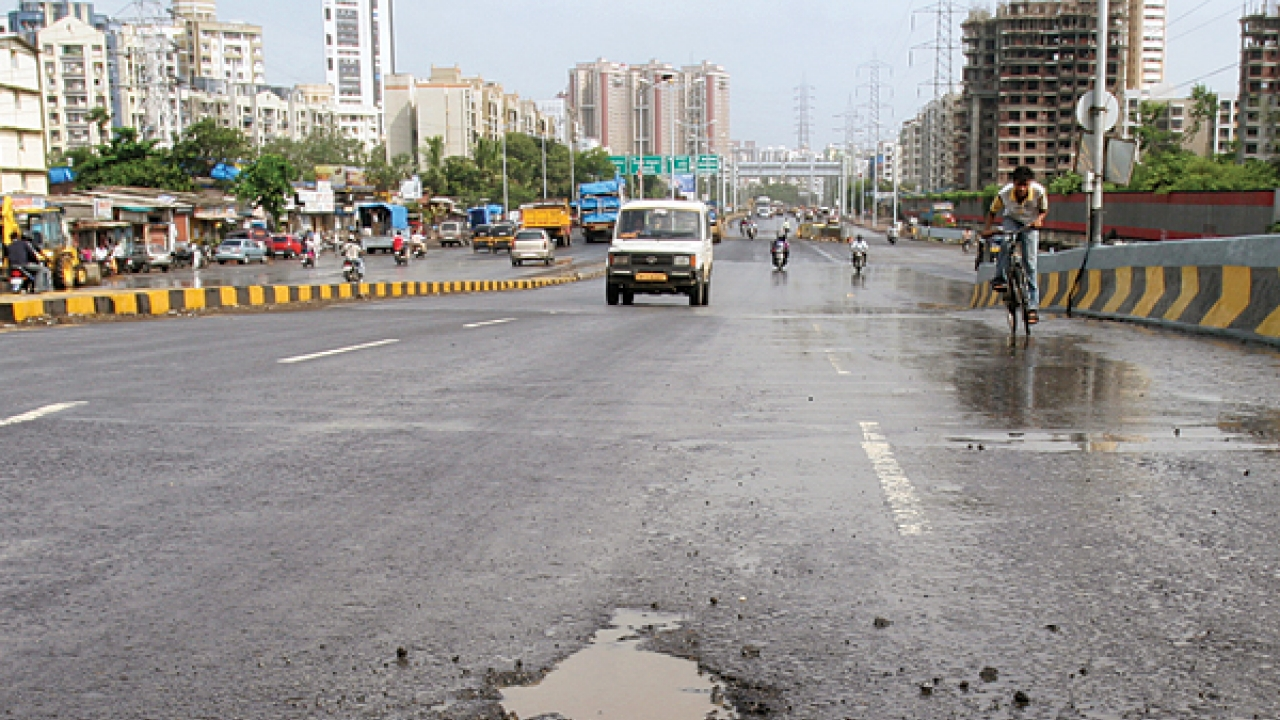pothole: (458, 570, 768, 717)
